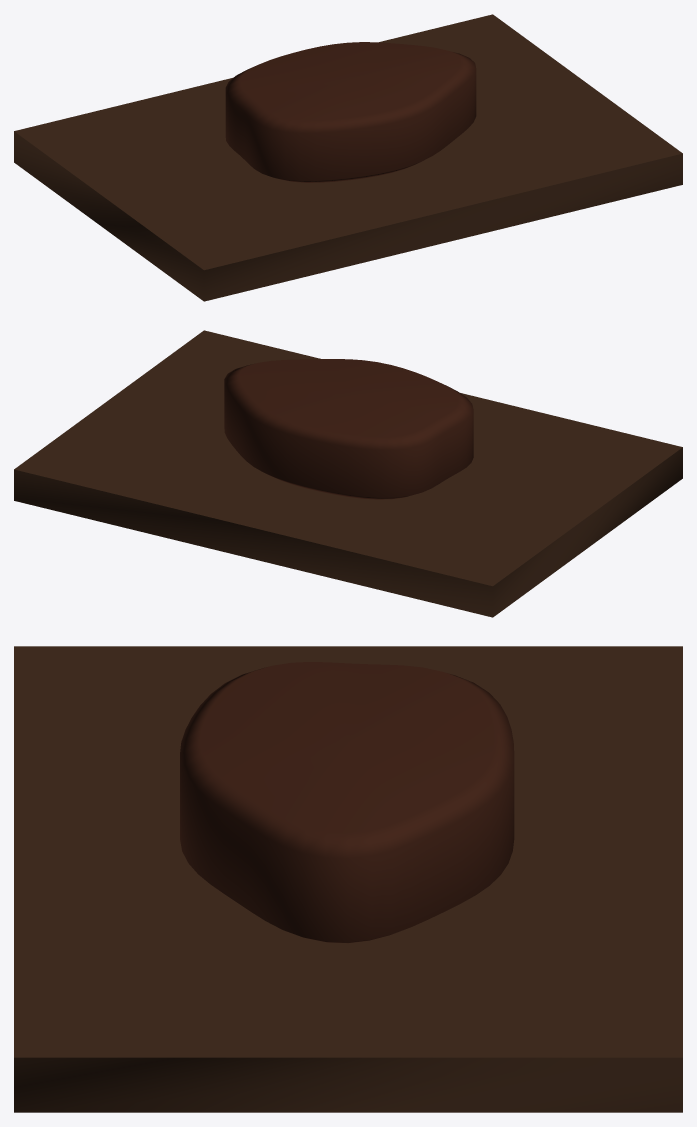
The model's file is ancho-angus.glb.
The picture shows the model from 3 angles, top to bottom: view 1: azimuth 30°, elevation 25°; view 2: azimuth 150°, elevation 25°; view 3: azimuth 270°, elevation 25°; orthographic projection. The views are drawn at different scales.
Visible parts, largest first — view 1: darkWood, crust; view 2: darkWood, crust; view 3: darkWood, crust.
Boxes of the visible parts, bbox=[...] form: darkWood: bbox=[14, 14, 682, 301]; crust: bbox=[225, 42, 476, 182]; darkWood: bbox=[14, 330, 682, 617]; crust: bbox=[224, 359, 473, 499]; darkWood: bbox=[14, 646, 682, 1112]; crust: bbox=[180, 662, 514, 943].
Size of the model in its own units: 0.32 by 0.06 by 0.22.
